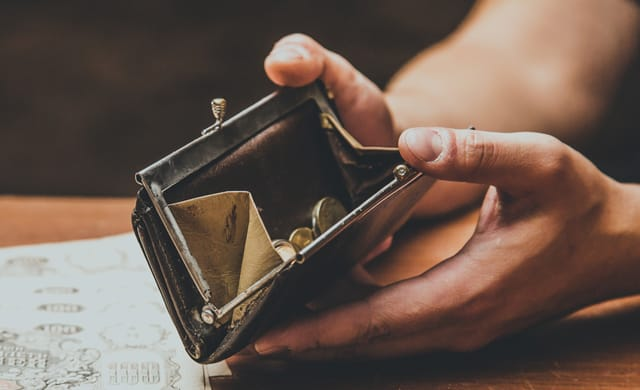monedero: (130, 72, 477, 367)
